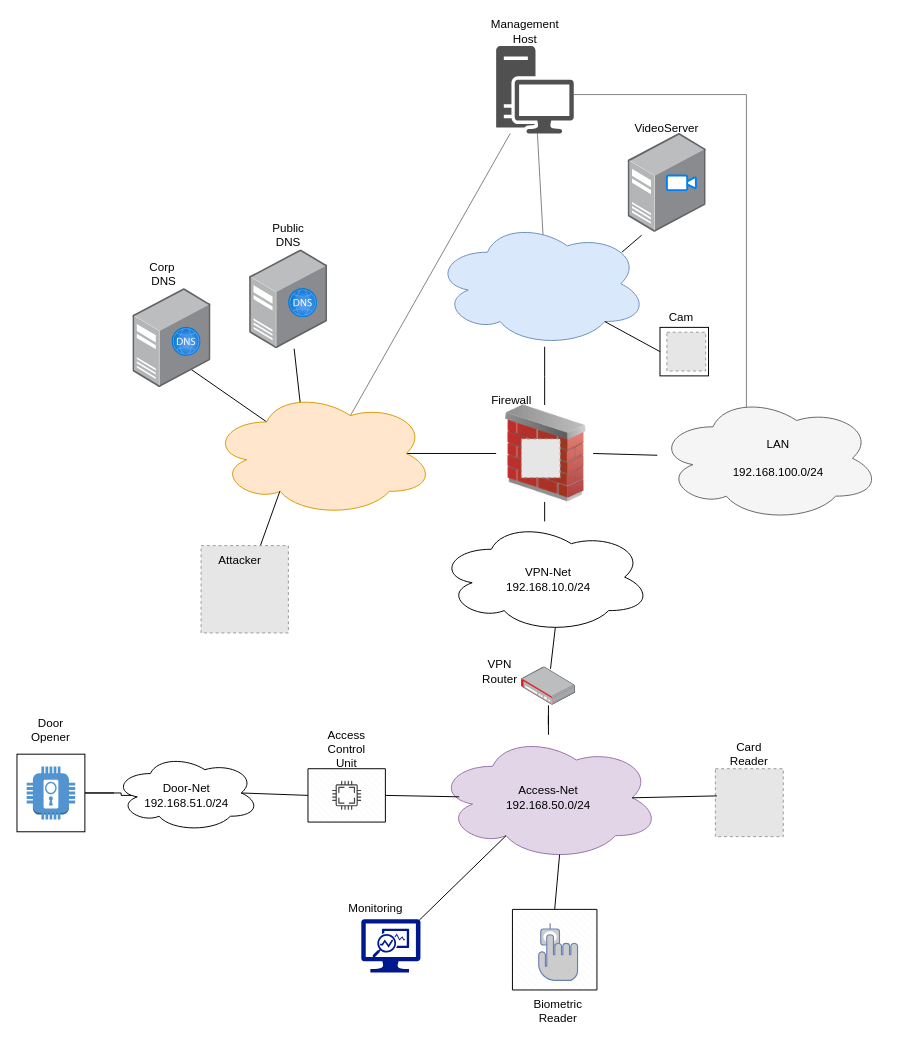
Image size: 897x1042. Some labels were removed from this diagram. Grey dashed boxes stand in for pictures. The shapes that lost their labels are listed below. From the top down, each one's centre as x and y in pixels, then its label:
the point at 540,283: DMZ 172.17.100.0/24
the point at 322,453: Internet 192.42.0.0/16
